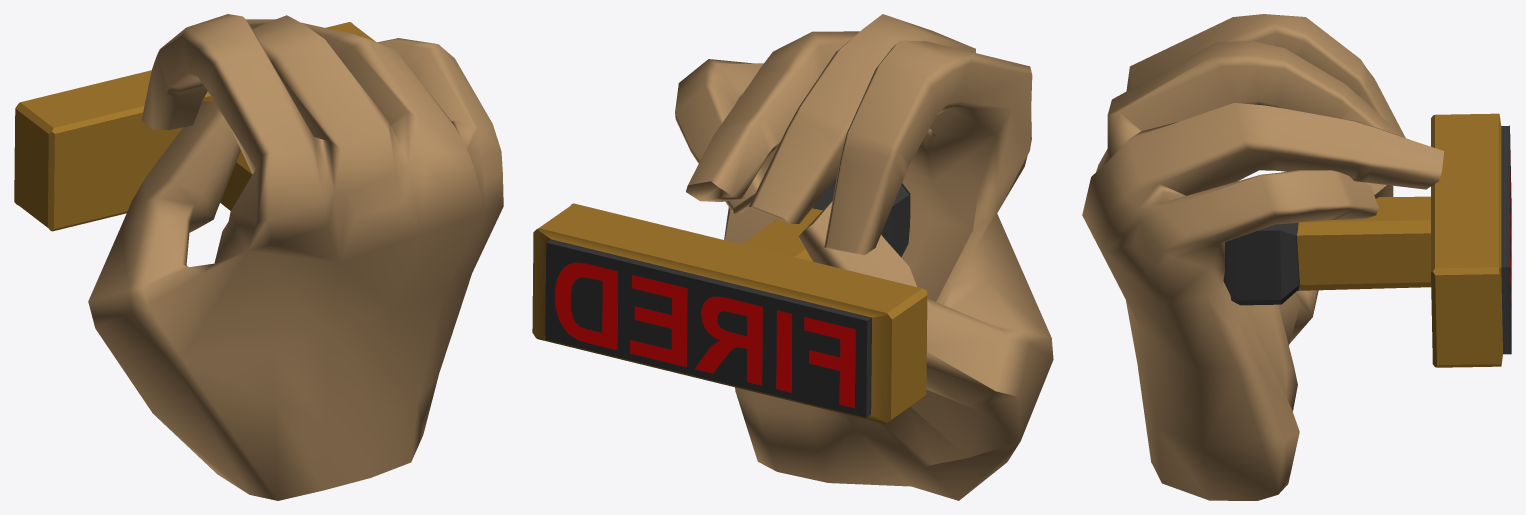
Rendered from Hand_With_Stamp.fbx.
3 renders of one model, left to right at view 1: azimuth 30°, elevation 25°; view 2: azimuth 150°, elevation 25°; view 3: azimuth 270°, elevation 25°, orthographic. The views are drawn at different scales.
Parts seen in each view (by area): view 1: Hand_With_Stamp; view 2: Hand_With_Stamp; view 3: Hand_With_Stamp.
Boxes of the visible parts, <box> form: Hand_With_Stamp: <box>14,14,503,500</box>; Hand_With_Stamp: <box>532,14,1053,500</box>; Hand_With_Stamp: <box>1082,14,1511,500</box>.
Size of the model in its own units: 11.42 by 13.26 by 12.38.
Materials: 2 (2 with a texture image).
